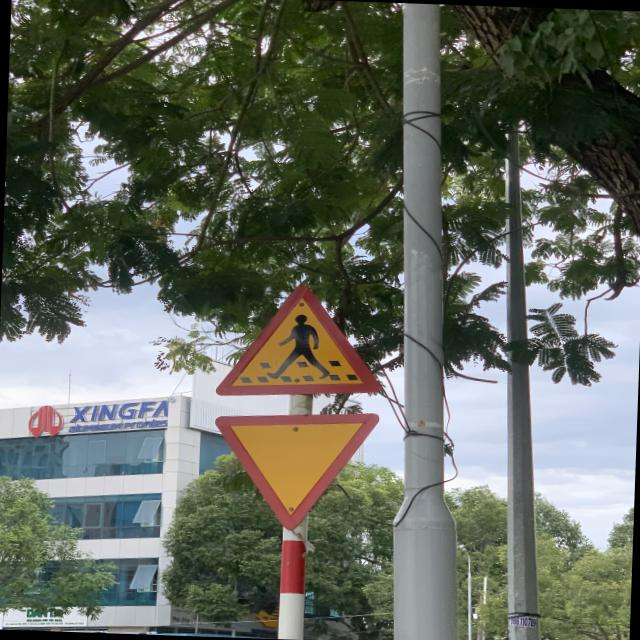Duong_Nguoi_Di_Bo_Sang_Ngang: (213, 280, 384, 404)
Gioi_Han_Toc_Do_25: (210, 404, 380, 528)
